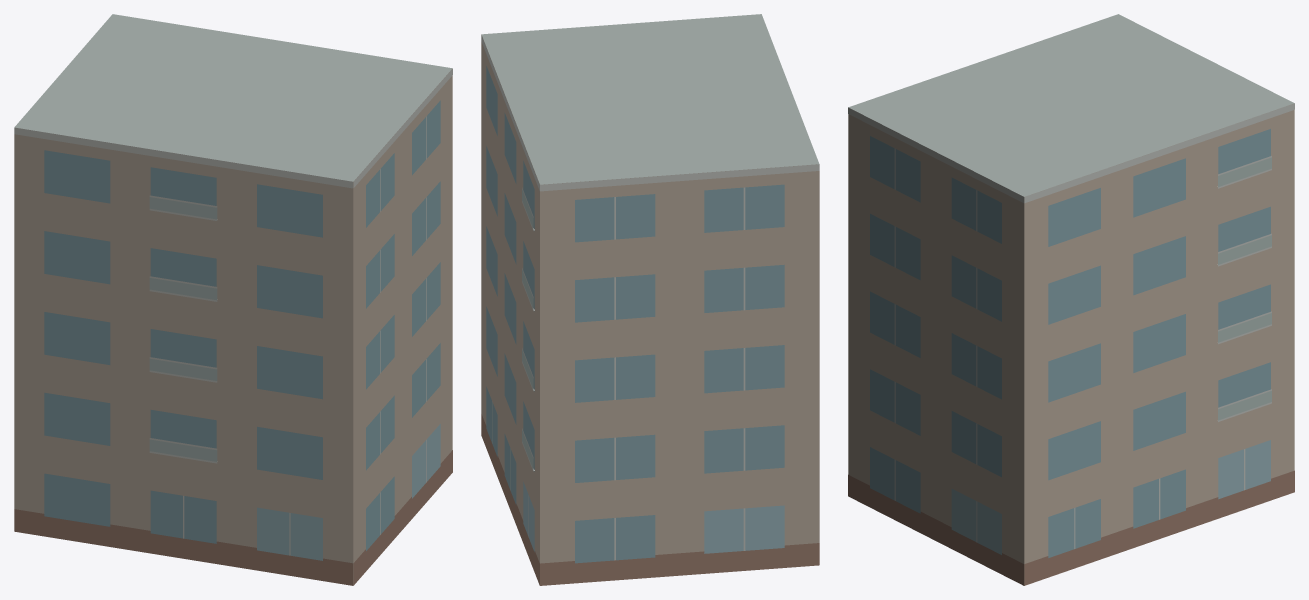
File: survey-upis-32844864.glb
The picture shows the model from 3 angles, left to right: view 1: azimuth 30°, elevation 25°; view 2: azimuth 150°, elevation 25°; view 3: azimuth 270°, elevation 25°; orthographic projection. The views are drawn at different scales.
Visible parts, largest first — view 1: survey-upis-32844864.tmp; view 2: survey-upis-32844864.tmp; view 3: survey-upis-32844864.tmp.
Part boxes in pixels (x1=…): survey-upis-32844864.tmp: x1=14, y1=14, x2=452, y2=585; survey-upis-32844864.tmp: x1=481, y1=14, x2=819, y2=585; survey-upis-32844864.tmp: x1=848, y1=14, x2=1294, y2=585.
Size of the model in its own units: 14.74 by 14.6 by 15.2.
